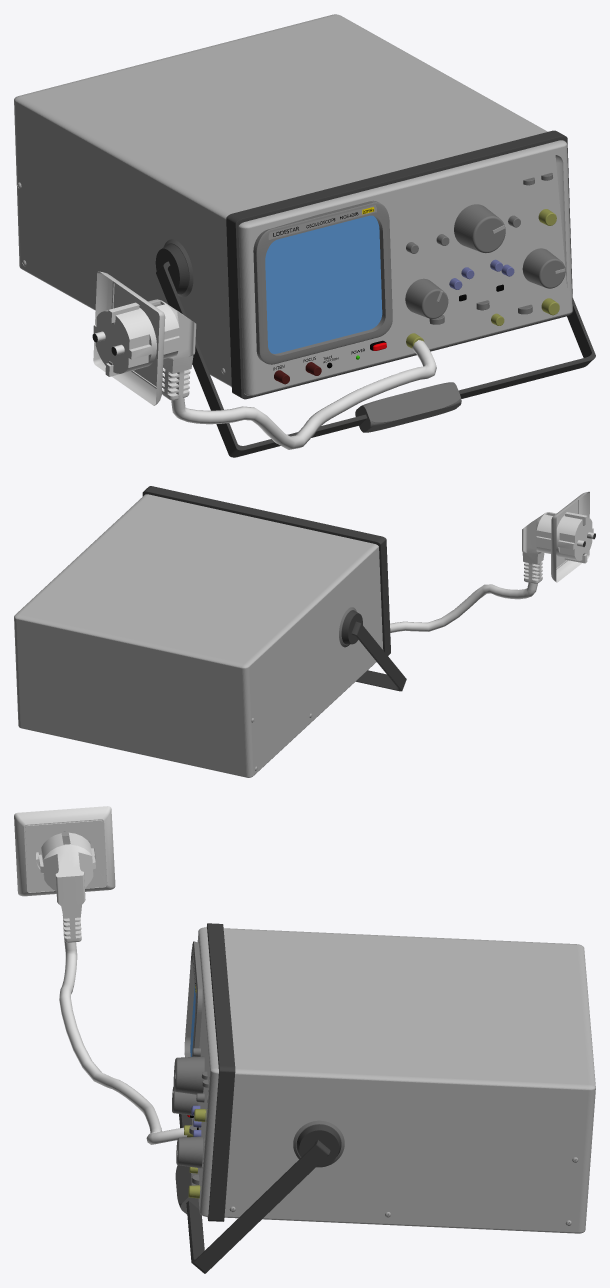
Rendered from CROLeftCorrect.fbx.
3 renders of one model, top to bottom at view 1: azimuth 30°, elevation 25°; view 2: azimuth 150°, elevation 25°; view 3: azimuth 270°, elevation 25°, orthographic. The views are drawn at different scales.
Visible parts, largest first — view 1: Cube.002, Cube.012, Cube.013, power outlet, Cube.001, Cube.014, power plug 1 cable.001, Cube.015, power plug, Cylinder.001, Cylinder.016, Cylinder.010 (+2 smaller); view 2: Cube.002, Cube.013, power outlet, power plug, power plug 1 cable.001, Cube.014, Cylinder.028; view 3: Cube.002, power outlet, Cube.013, Cube.014, power plug, power plug 1 cable.001, Cube.001, Cylinder.001, Cylinder.002, Cylinder.016, Cube.015.
Boxes of the visible parts, x1=… form: Cube.002: x1=14, y1=14, x2=572, y2=395; Cube.012: x1=265, y1=215, x2=382, y2=353; Cube.013: x1=226, y1=130, x2=573, y2=399; power outlet: x1=92, y1=271, x2=165, y2=405; Cube.001: x1=253, y1=200, x2=392, y2=364; Cube.014: x1=156, y1=261, x2=595, y2=457; power plug 1 cable.001: x1=171, y1=340, x2=436, y2=449; Cube.015: x1=355, y1=382, x2=461, y2=432; power plug: x1=119, y1=299, x2=196, y2=400; Cylinder.001: x1=454, y1=204, x2=505, y2=253; Cylinder.016: x1=522, y1=248, x2=565, y2=288; Cylinder.010: x1=405, y1=278, x2=448, y2=318; Cube.002: x1=14, y1=494, x2=383, y2=777; Cube.013: x1=142, y1=486, x2=390, y2=655; power outlet: x1=551, y1=491, x2=595, y2=582; power plug: x1=522, y1=512, x2=591, y2=583; power plug 1 cable.001: x1=390, y1=582, x2=537, y2=632; Cube.014: x1=351, y1=621, x2=406, y2=691; Cylinder.028: x1=341, y1=610, x2=362, y2=644; Cube.002: x1=191, y1=927, x2=595, y2=1233; power outlet: x1=14, y1=806, x2=115, y2=896; Cube.013: x1=207, y1=923, x2=235, y2=1221; Cube.014: x1=179, y1=1114, x2=330, y2=1273; power plug: x1=38, y1=832, x2=95, y2=942; power plug 1 cable.001: x1=59, y1=934, x2=187, y2=1144; Cube.001: x1=184, y1=941, x2=202, y2=1057; Cylinder.001: x1=173, y1=1056, x2=204, y2=1094; Cylinder.002: x1=296, y1=1124, x2=341, y2=1166; Cylinder.016: x1=176, y1=1136, x2=204, y2=1168; Cube.015: x1=175, y1=1165, x2=199, y2=1214.
Size of the model in its own units: 1795 by 829 by 1812.
